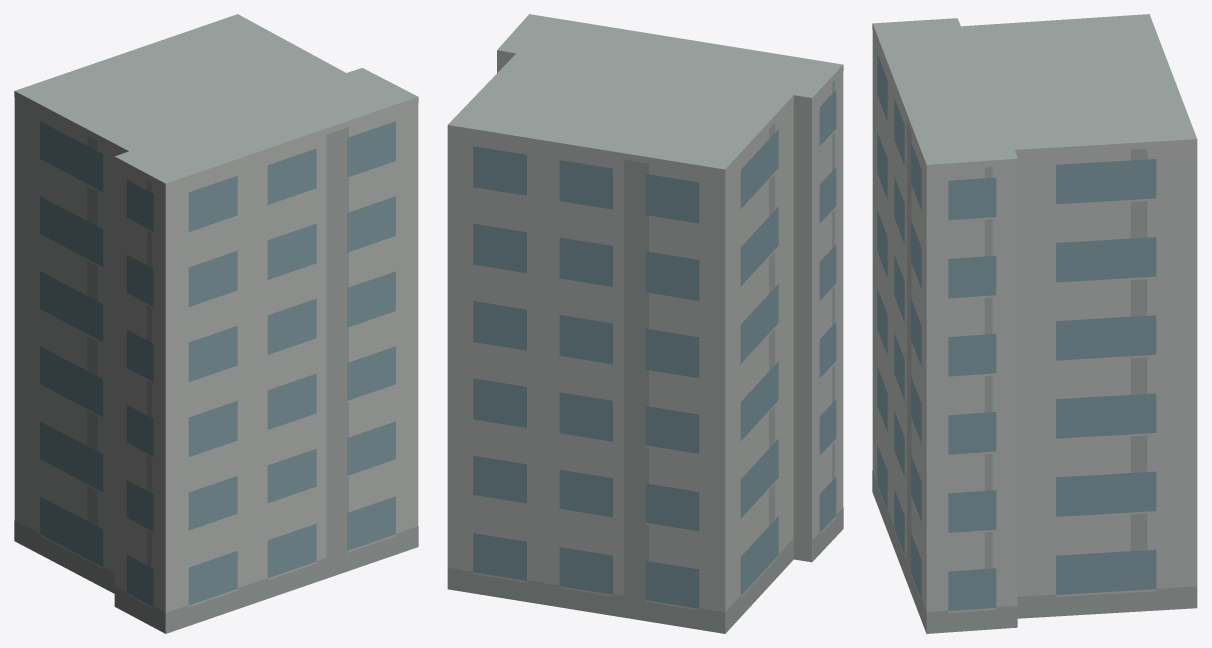
Rendered from survey-upis-32577089.glb.
3 views of the same model, side by side, from view 1: azimuth 30°, elevation 25°; view 2: azimuth 150°, elevation 25°; view 3: azimuth 270°, elevation 25° (orthographic). The views are drawn at different scales.
Parts seen in each view (by area): view 1: survey-upis-32577089.tmp; view 2: survey-upis-32577089.tmp; view 3: survey-upis-32577089.tmp.
Part boxes in pixels (box(x1,y1,x2,y2)): survey-upis-32577089.tmp: box(14, 14, 418, 633); survey-upis-32577089.tmp: box(447, 14, 843, 633); survey-upis-32577089.tmp: box(872, 14, 1197, 633).
Size of the model in its own units: 12.16 by 17.6 by 11.06.
